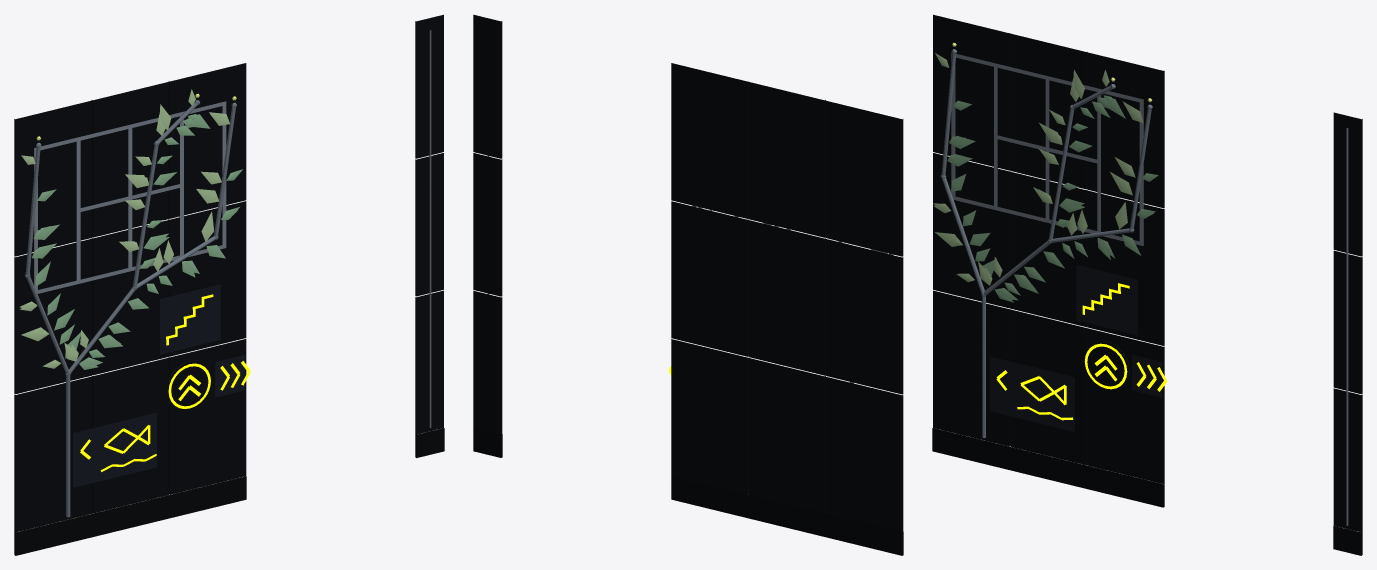
File: tt_core_clad_aqn.glb
3 renders of one model, left to right at view 1: azimuth 30°, elevation 25°; view 2: azimuth 150°, elevation 25°; view 3: azimuth 330°, elevation 25°, orthographic.
Visible parts, largest first — view 1: Clad_Panels, Wayfinding_Backplate, Kick_Plate, Branch_Relief, Court_Line_Inlay, Leaf_Layer_Dark, Leaf_Layer_Light, Wayfinding_Amber, Vine_Stem; view 2: Clad_Panels, Kick_Plate; view 3: Clad_Panels, Wayfinding_Backplate, Kick_Plate, Court_Line_Inlay, Branch_Relief, Leaf_Layer_Dark, Leaf_Layer_Light, Wayfinding_Amber, Vine_Stem.
Part boxes in pixels (bbox=[...]): Clad_Panels: bbox=[14, 14, 443, 532]; Wayfinding_Backplate: bbox=[72, 284, 244, 487]; Kick_Plate: bbox=[14, 428, 444, 555]; Branch_Relief: bbox=[25, 100, 236, 517]; Court_Line_Inlay: bbox=[34, 101, 226, 293]; Leaf_Layer_Dark: bbox=[32, 114, 242, 369]; Leaf_Layer_Light: bbox=[19, 89, 229, 368]; Wayfinding_Amber: bbox=[80, 294, 250, 471]; Vine_Stem: bbox=[429, 30, 431, 427]; Clad_Panels: bbox=[473, 14, 903, 532]; Kick_Plate: bbox=[473, 428, 903, 555]; Clad_Panels: bbox=[933, 14, 1362, 532]; Wayfinding_Backplate: bbox=[989, 265, 1161, 431]; Kick_Plate: bbox=[932, 428, 1362, 555]; Court_Line_Inlay: bbox=[951, 52, 1143, 245]; Branch_Relief: bbox=[940, 49, 1152, 438]; Leaf_Layer_Dark: bbox=[947, 95, 1158, 302]; Leaf_Layer_Light: bbox=[933, 53, 1143, 285]; Wayfinding_Amber: bbox=[996, 283, 1166, 420]; Vine_Stem: bbox=[1346, 128, 1348, 525].
Size of what is drawn, in the model's own units: 5.81 by 5.65 by 0.078.
9 materials, 5 textured.
